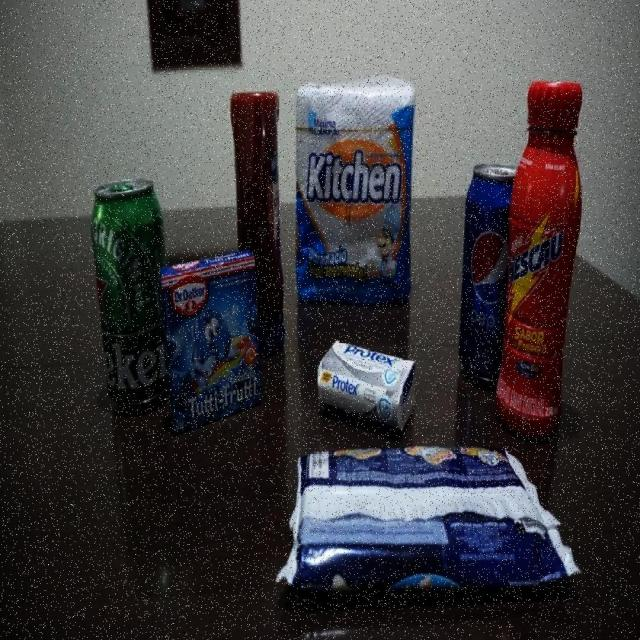BeerCan: (90, 176, 168, 411)
ChocolateMilk: (493, 80, 583, 442)
Gelatine: (160, 248, 263, 434)
Ketchup: (229, 88, 285, 356)
Napkin: (292, 75, 416, 310)
Popcorn: (275, 443, 580, 596)
Soap: (317, 340, 416, 434)
SodaCan: (458, 162, 510, 384)
